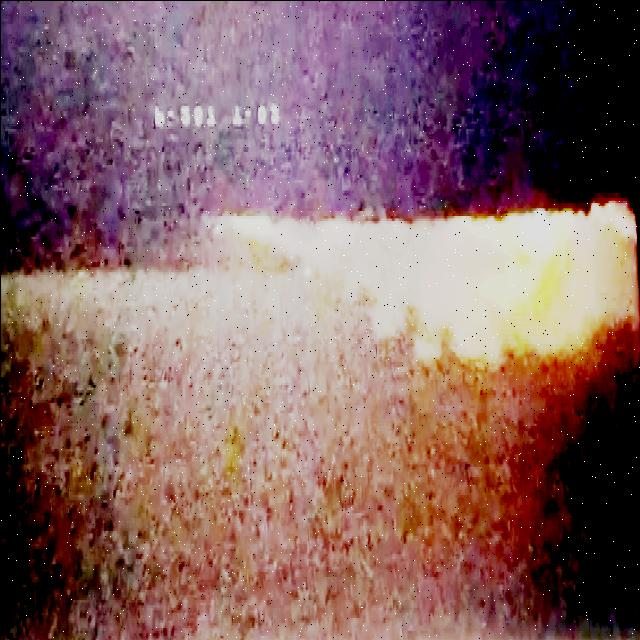asap: (204, 185, 634, 403)
